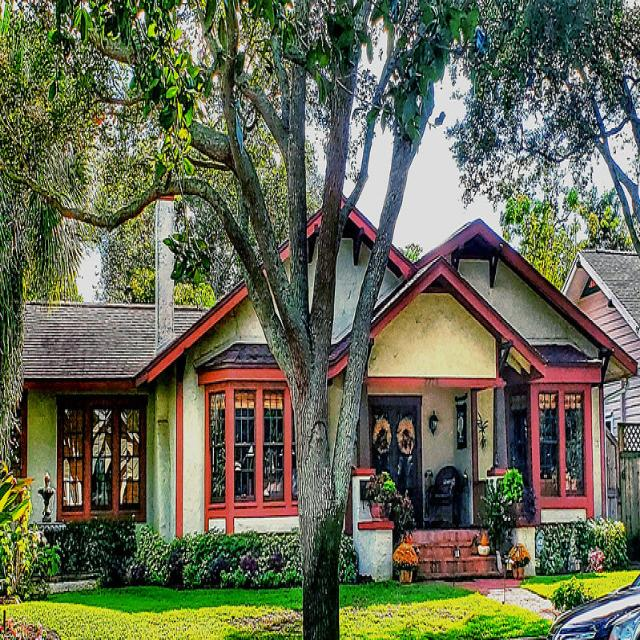building: (134, 163, 639, 599), (11, 296, 216, 570)
